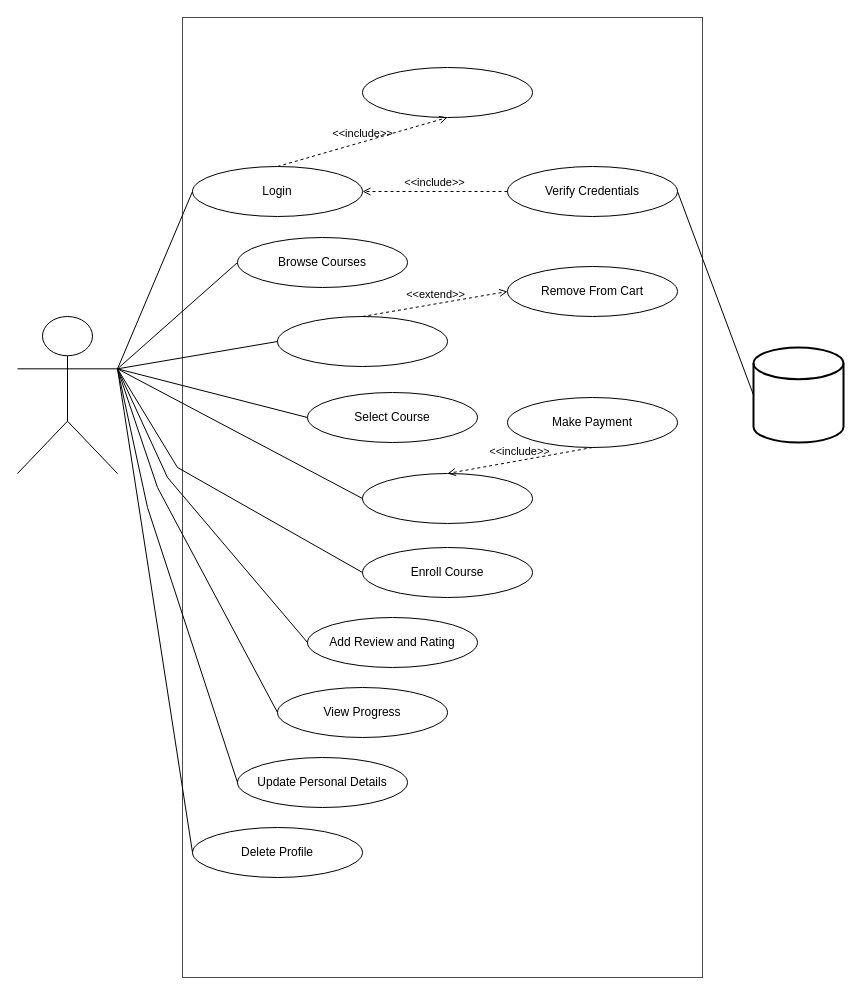
Some shapes in this 862 by 995 pixel diagram are drawn without their labels. Here are the shapes that lost their labels. From the top down, the centre of each, then its label:
At point (447, 92): "Register".
At point (362, 341): "Add To Cart".
At point (67, 395): "Student".
At point (798, 394): "<<Actor Database>>".
At point (447, 498): "Purchase Course".
